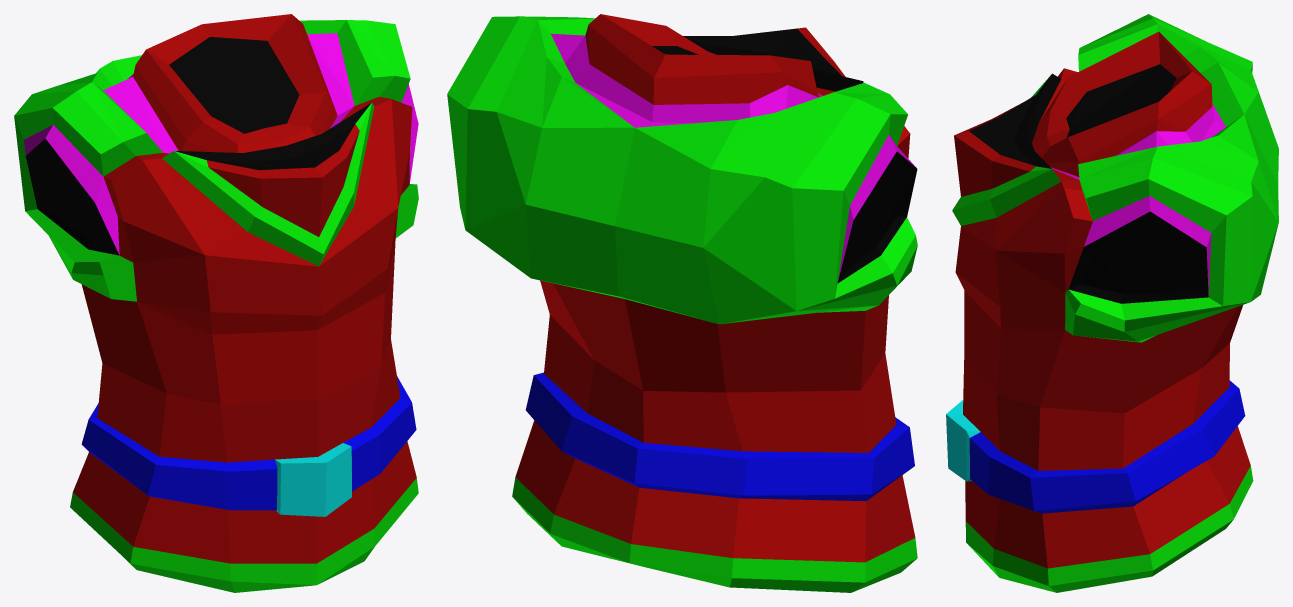
The model's file is Chr_Torso_Male_Static_24.fbx.
3 views of the same model, side by side, from view 1: azimuth 30°, elevation 25°; view 2: azimuth 150°, elevation 25°; view 3: azimuth 270°, elevation 25° (orthographic). The views are drawn at different scales.
Parts seen in each view (by area): view 1: Chr_Torso_Male_24; view 2: Chr_Torso_Male_24; view 3: Chr_Torso_Male_24.
Boxes of the visible parts, box(x1,y1,x2,y2) form: Chr_Torso_Male_24: box(14, 14, 418, 592); Chr_Torso_Male_24: box(447, 14, 917, 592); Chr_Torso_Male_24: box(946, 14, 1278, 592).
Bounding box in the file's own units: 50.2 × 66.34 × 41.24.
